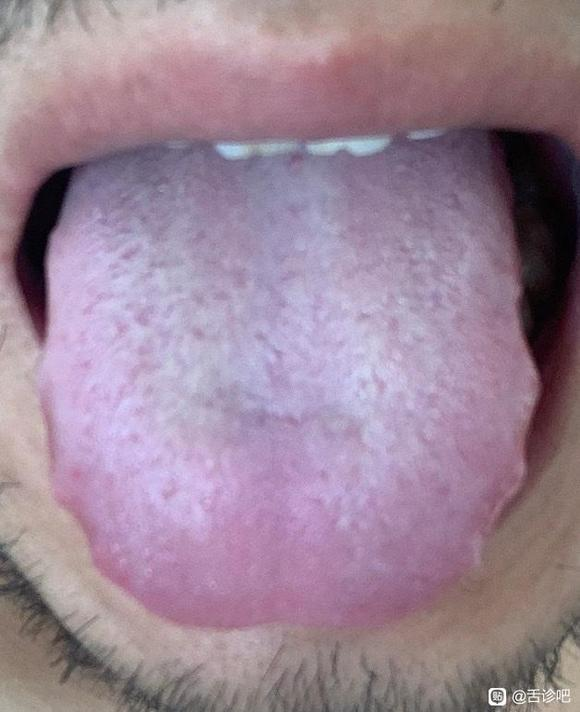baitaishe: (34, 130, 541, 629)
chihenshe: (35, 381, 146, 609), (459, 384, 540, 577)
zishe: (34, 130, 541, 629)
